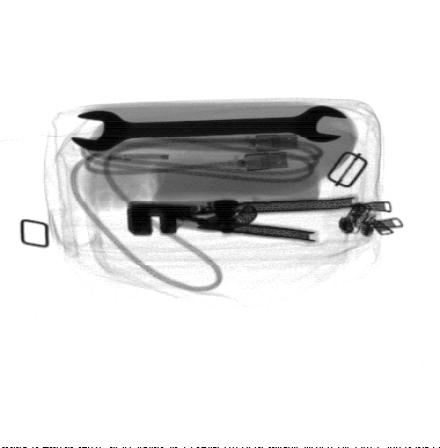Pliers: (127, 195, 358, 245)
Wrench: (70, 104, 349, 150)
